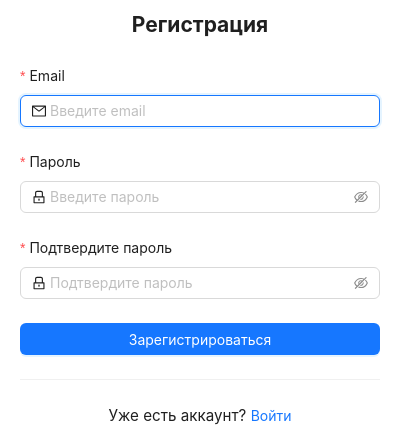
Test case: RegisterForm › Валидация формы › должен показывать ошибку при пустом email
The width and height of the screenshot is (401, 442).
Click the button "Зарегистрироваться": {"x": 200, "y": 339} [20,323,380,355]
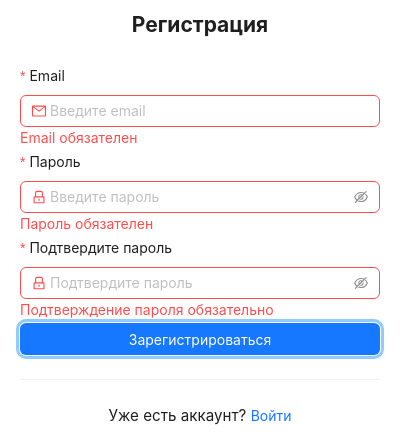
Expected: the text "Email обязателен" is shown, [20,129,137,146]
